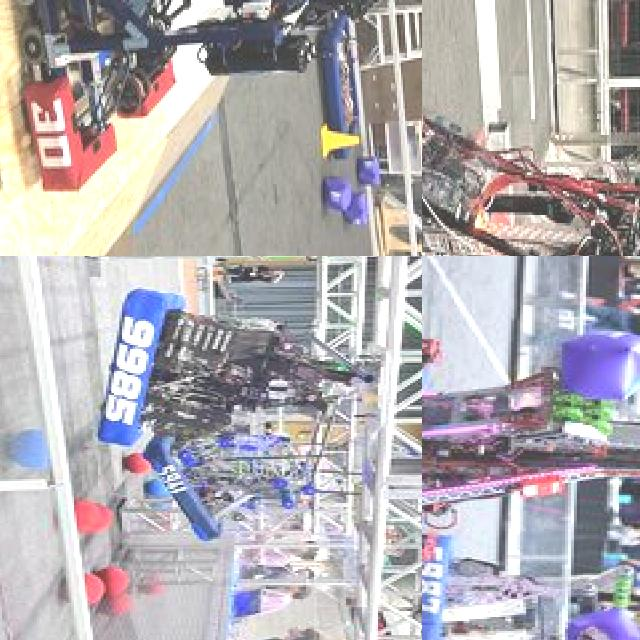FRC-Robots: (0, 0, 422, 229), (422, 304, 640, 590), (100, 270, 390, 454), (422, 46, 640, 256), (147, 418, 346, 548), (422, 543, 640, 640)
